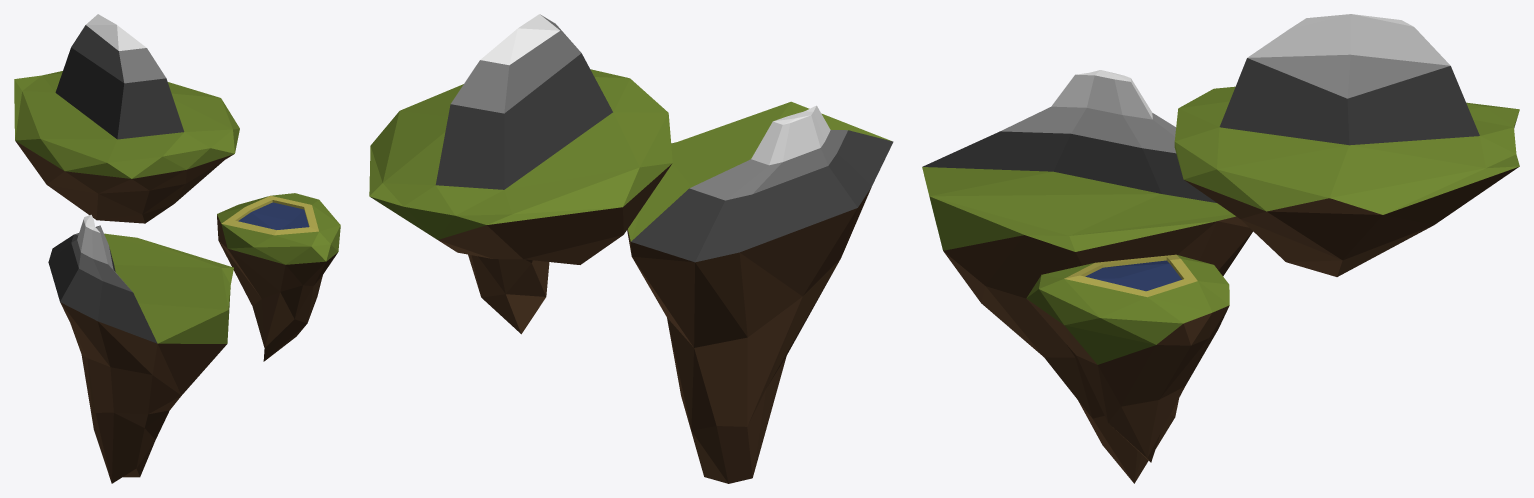
Rendered from ostrovok3.fbx.
The picture shows the model from 3 angles, left to right: view 1: azimuth 30°, elevation 25°; view 2: azimuth 150°, elevation 25°; view 3: azimuth 270°, elevation 25°; orthographic projection. The views are drawn at different scales.
Visible parts, largest first — view 1: Icosphere; view 2: Icosphere; view 3: Icosphere.
Part boxes in pixels (box(x1,y1,x2,y2)): Icosphere: box(14, 14, 340, 483); Icosphere: box(369, 14, 893, 483); Icosphere: box(922, 14, 1519, 483).
Size of the model in its own units: 424 by 522 by 557.
